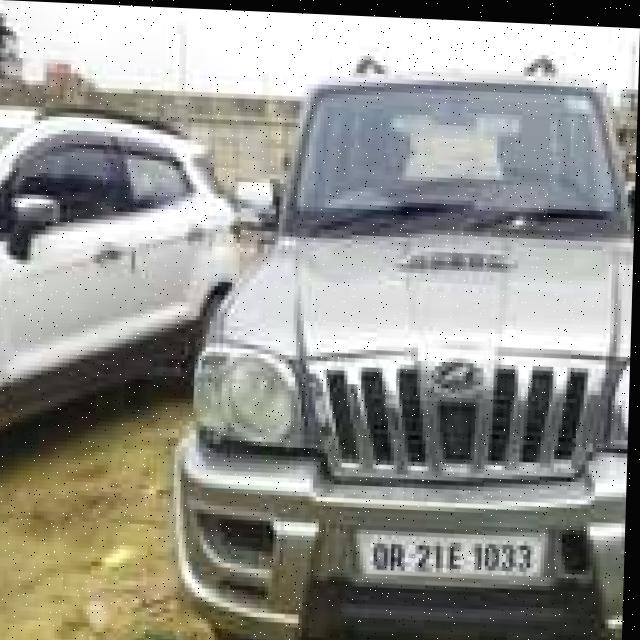plate: (356, 526, 550, 580)
